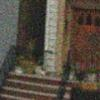stairs: (0, 69, 77, 100)
